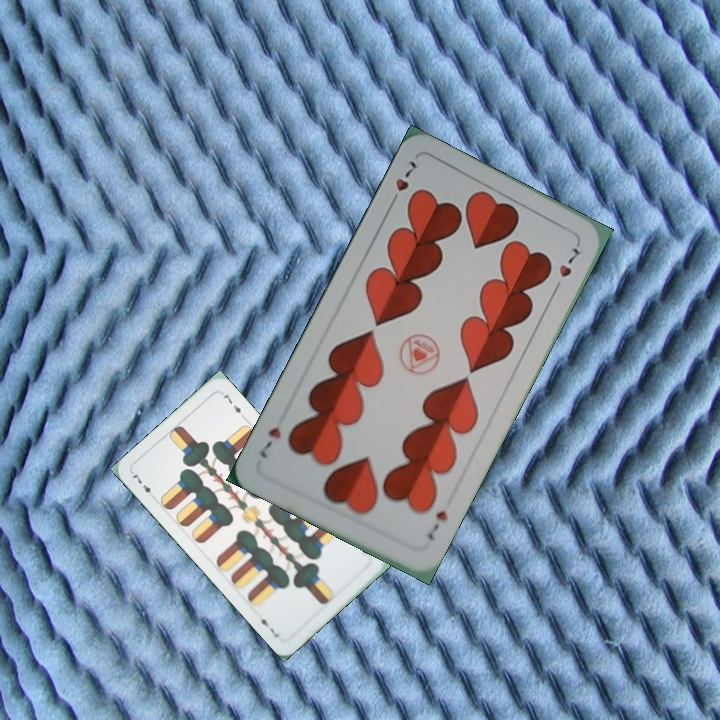E7: (128, 468, 159, 502)
H7: (385, 156, 419, 210), (422, 506, 450, 543)
